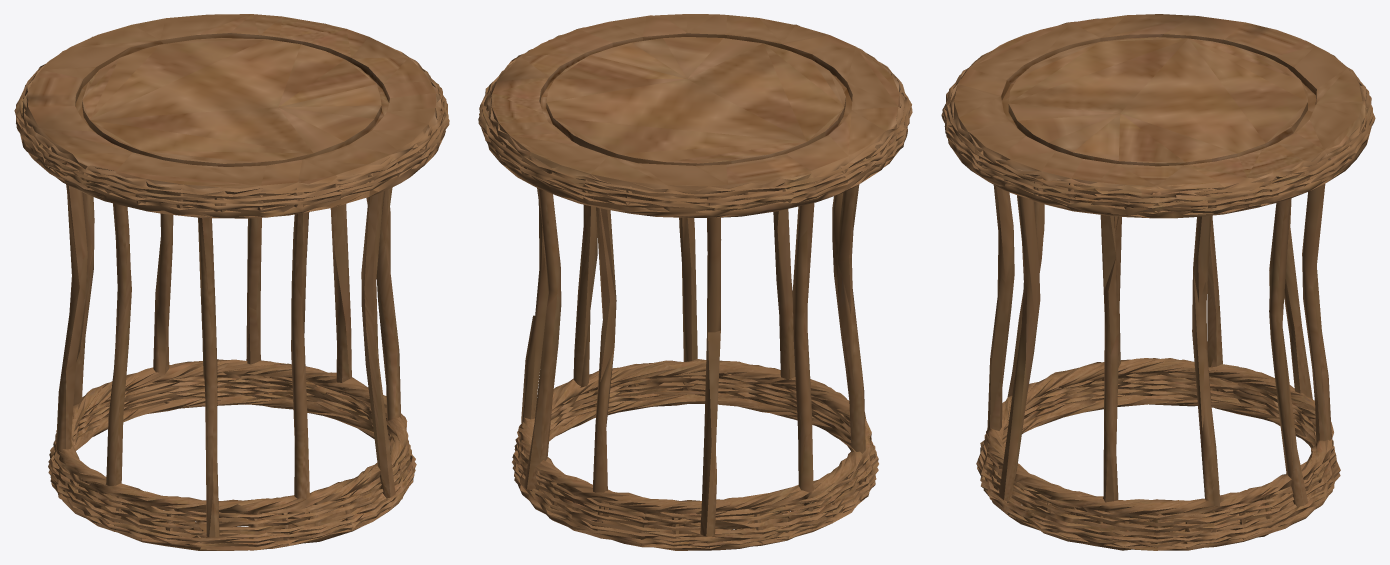
Rendered from mj-wicker-table.glb.
3 views of the same model, side by side, from view 1: azimuth 30°, elevation 25°; view 2: azimuth 150°, elevation 25°; view 3: azimuth 270°, elevation 25° (orthographic).
Visible parts, largest first — view 1: mj-wicker-table; view 2: mj-wicker-table; view 3: mj-wicker-table.
Boxes of the visible parts, left/top/right/bottom form: mj-wicker-table: left=14, top=14, right=449, bottom=550; mj-wicker-table: left=478, top=14, right=912, bottom=550; mj-wicker-table: left=941, top=14, right=1375, bottom=550.
Bounding box in the file's own units: 0.7505 × 0.7204 × 0.7506.
1 material, 1 textured.
